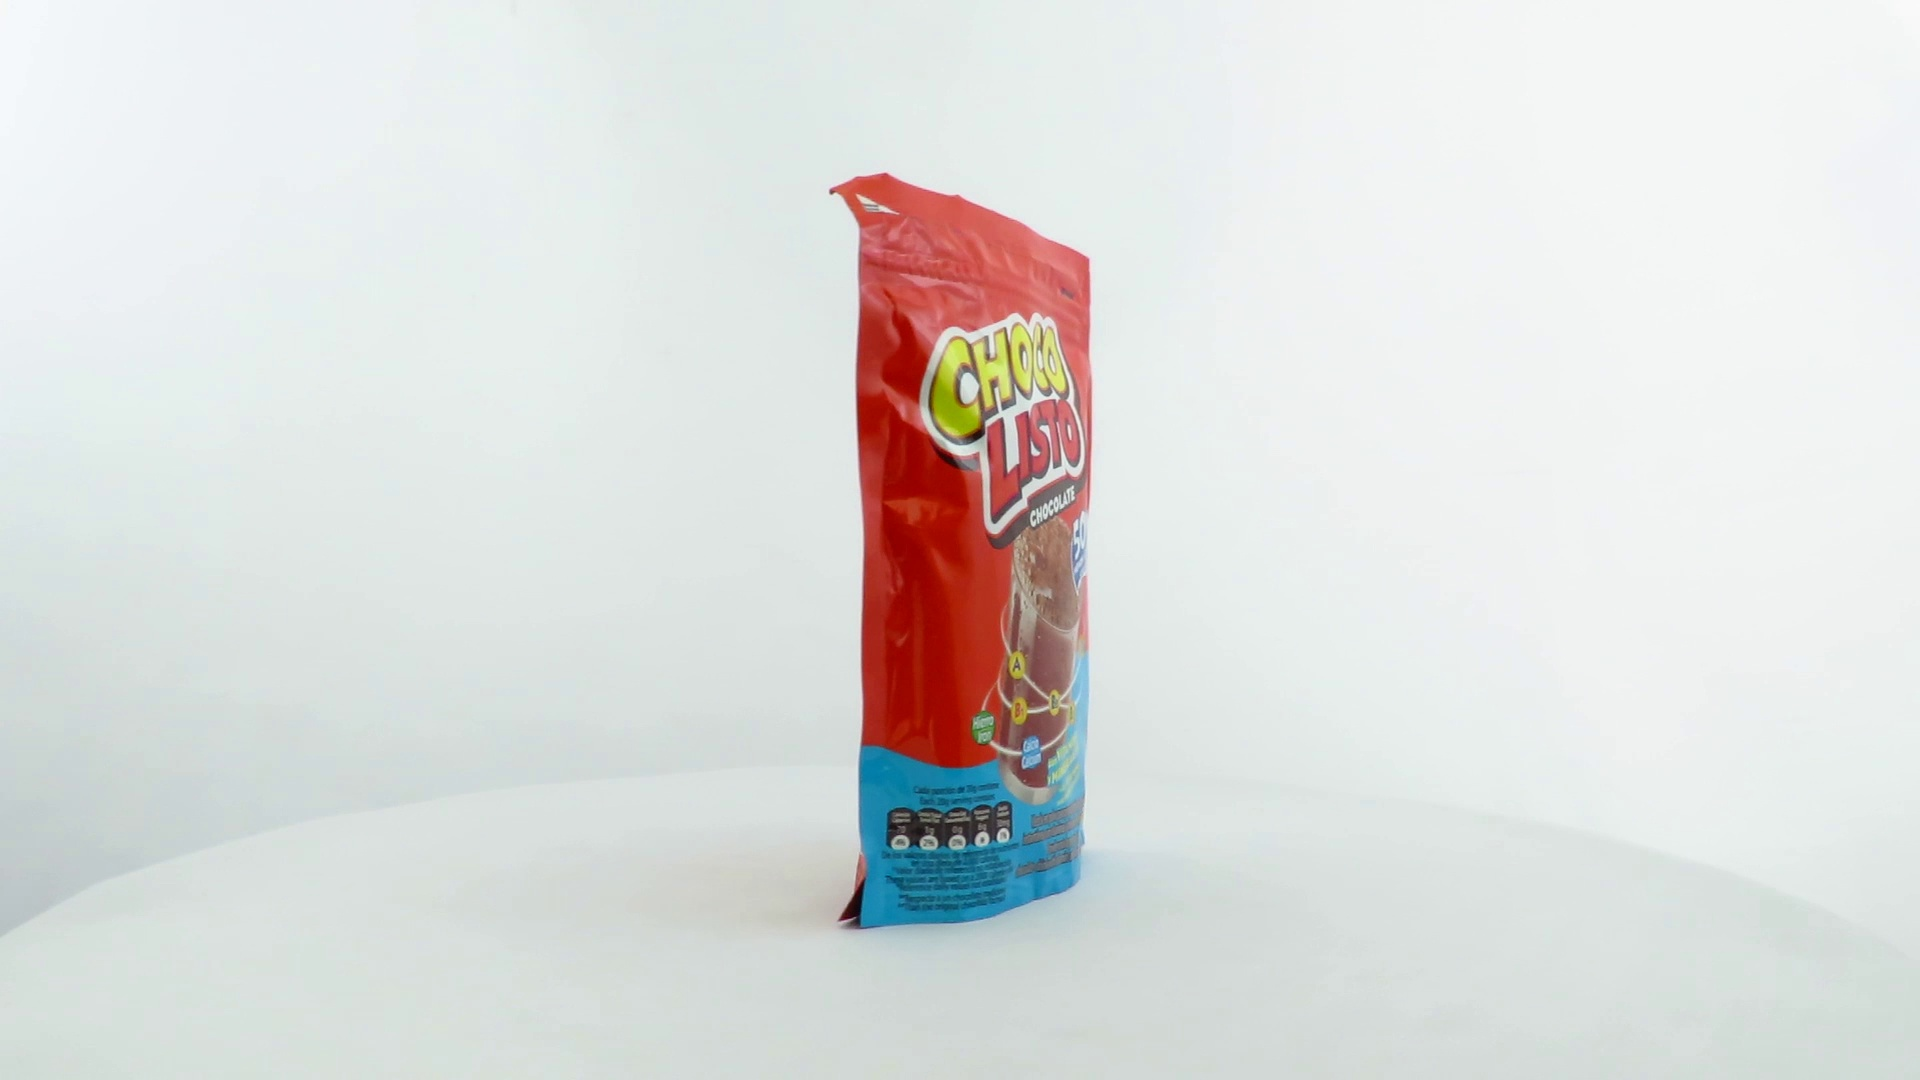COL0170104DYP20000: (824, 167, 1098, 936)
